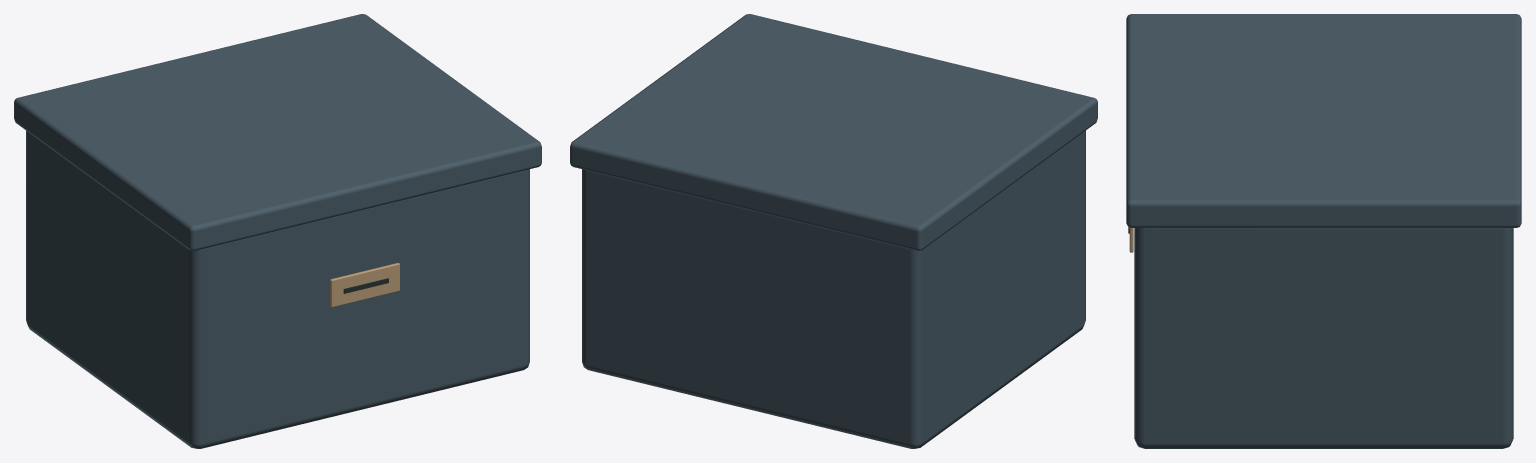
File: box-ink-balanced-88d3916c81.glb
The picture shows the model from 3 angles, left to right: view 1: azimuth 30°, elevation 25°; view 2: azimuth 150°, elevation 25°; view 3: azimuth 270°, elevation 25°; orthographic projection. The views are drawn at different scales.
Parts seen in each view (by area): view 1: ink, oak; view 2: ink; view 3: ink.
Boxes of the visible parts, box(x1,y1,x2,y2) form: ink: box(14, 14, 541, 448); oak: box(330, 263, 399, 307); ink: box(570, 14, 1097, 448); ink: box(1126, 14, 1521, 448).
Size of the model in its own units: 0.332 by 0.2075 by 0.292.
